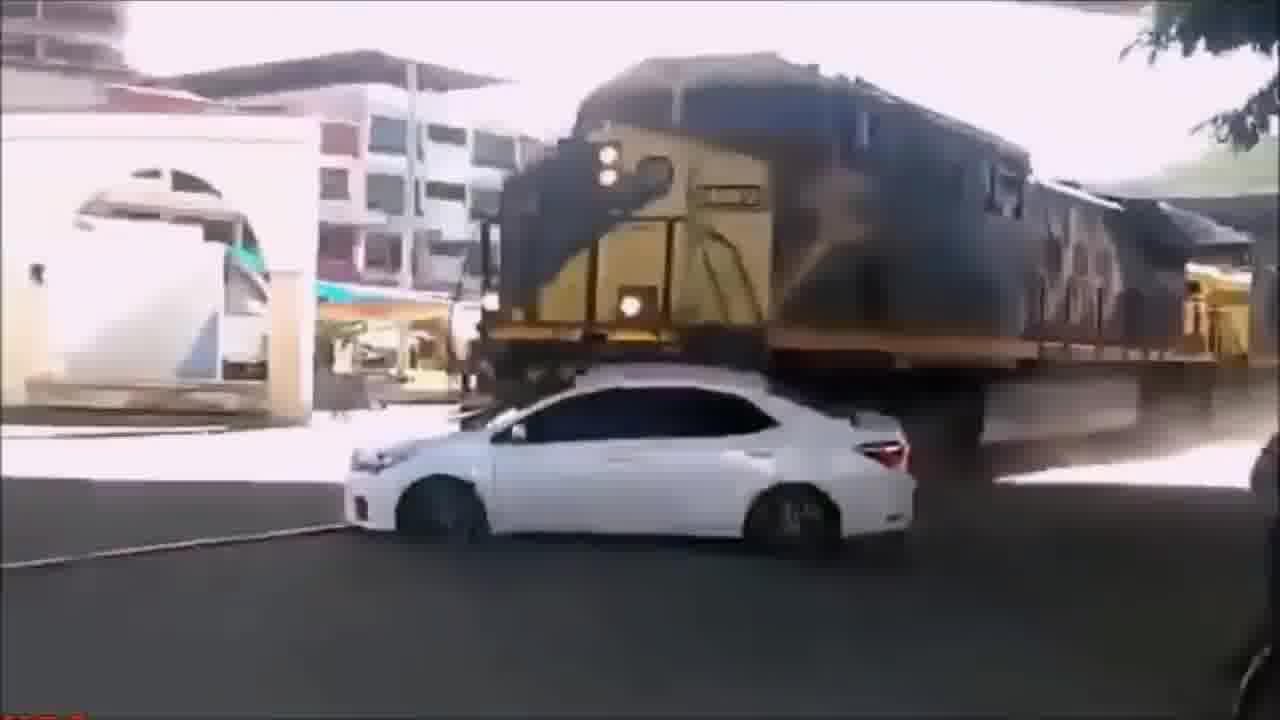crossing railway track: (290, 286, 969, 589)
